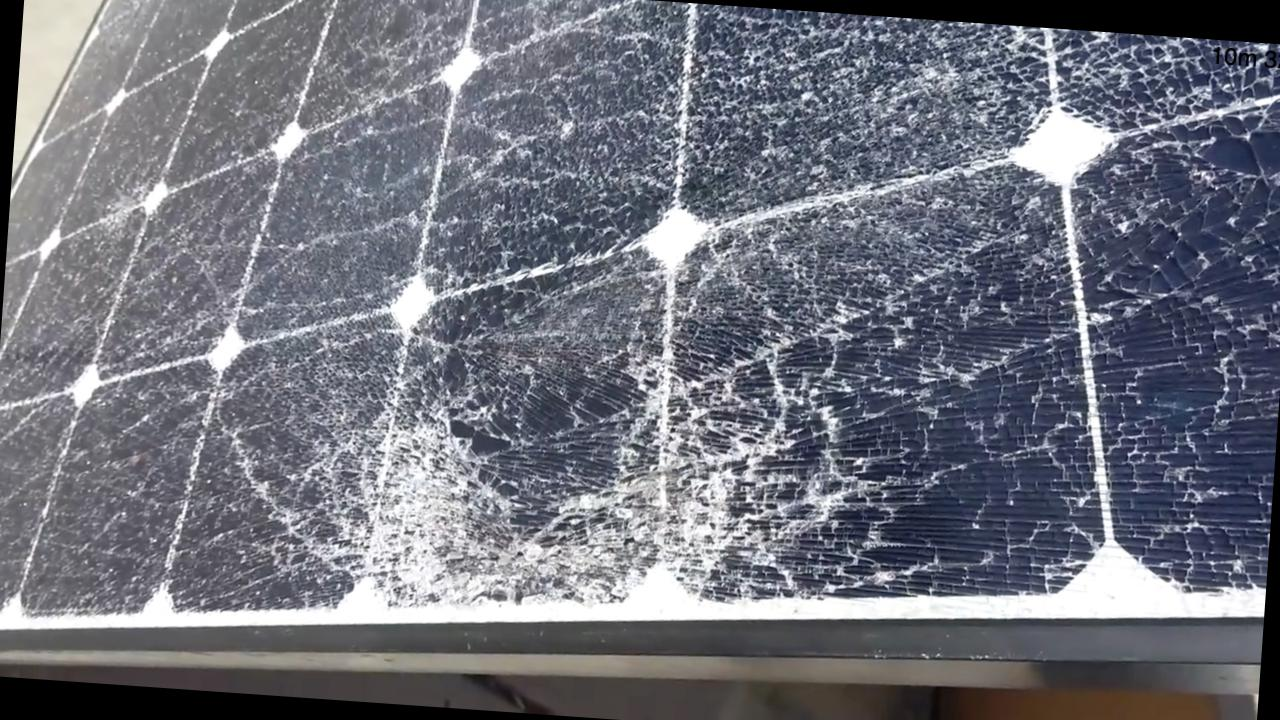Crack: (0, 0, 1279, 718), (550, 331, 884, 611), (308, 408, 548, 613)
